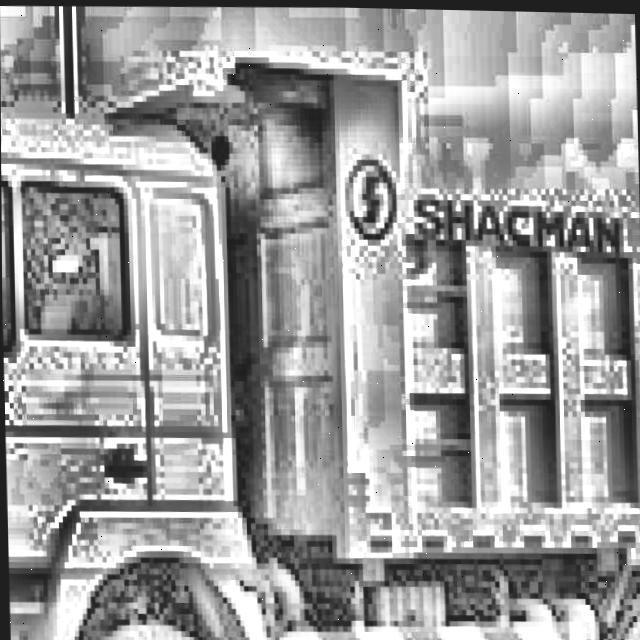dump_truck: (0, 36, 640, 640)
